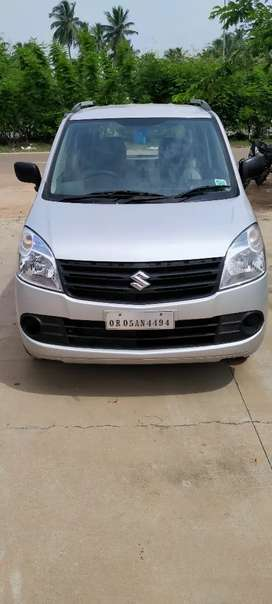OR05AN4494: (105, 310, 174, 330)
